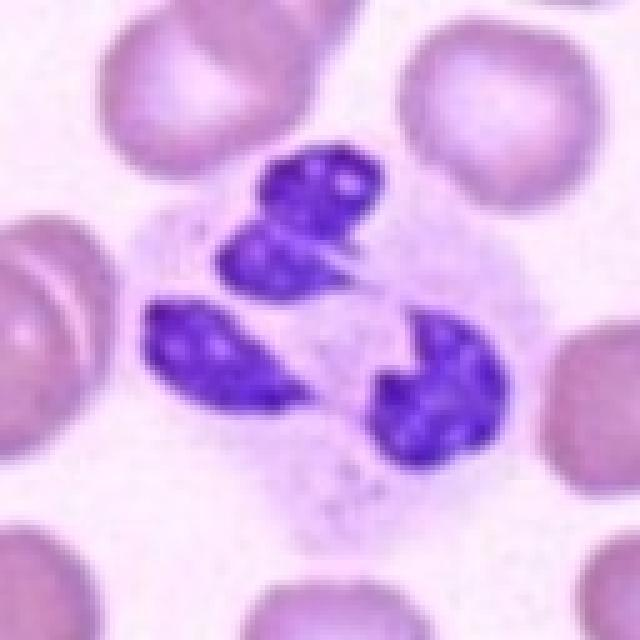neutro: (83, 109, 537, 523)
